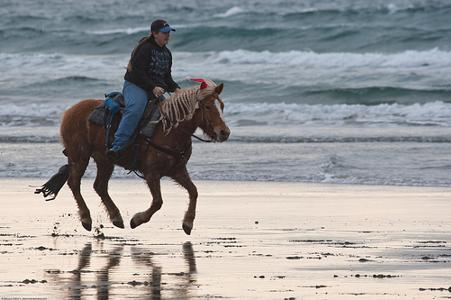person: (110, 19, 184, 159)
